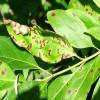Tomato leaf bacterial spot: (3, 15, 78, 66), (44, 6, 92, 48)
